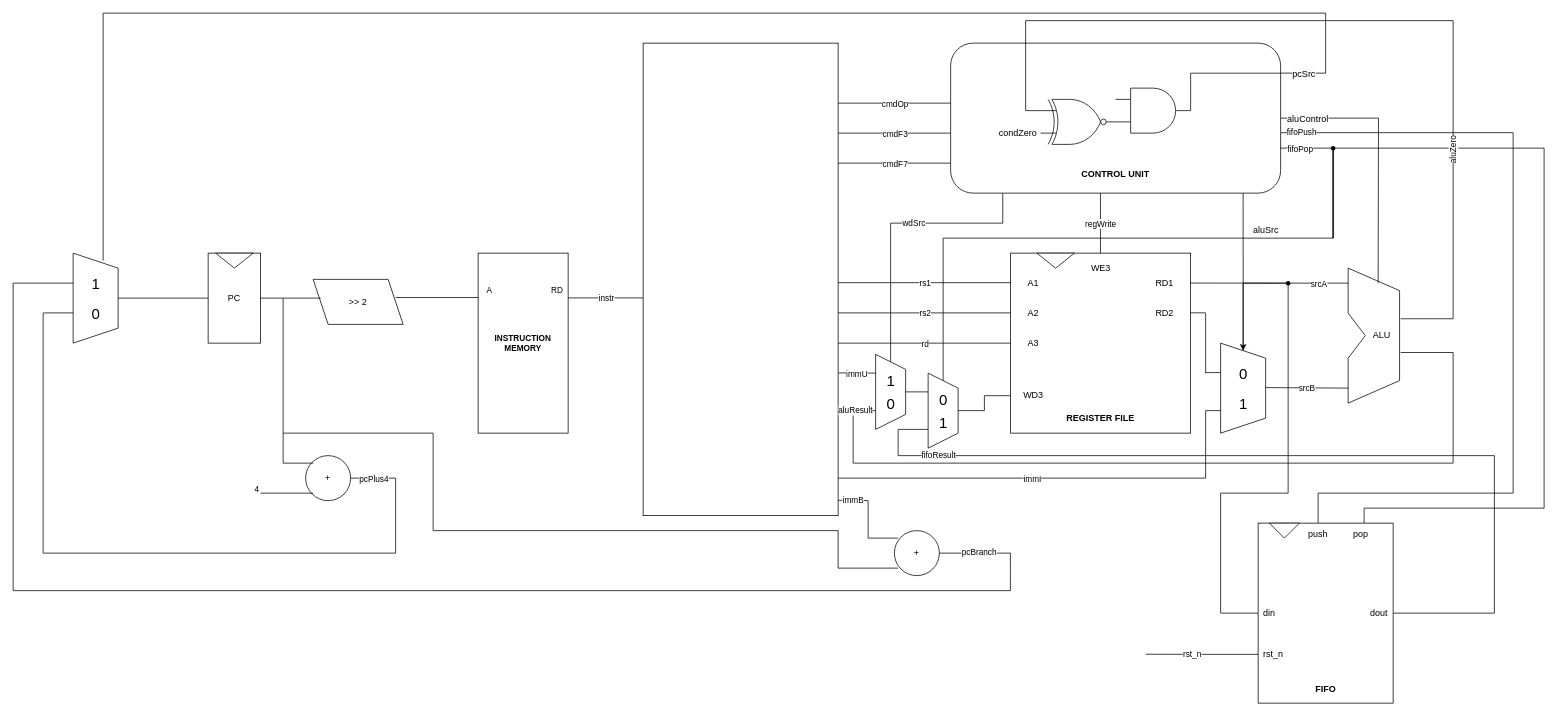
The diagram is 1559 pixels wide and 716 high, and some of its shapes have lost their labels. The centre of each missing label's shape, as x and y in pixels:
branch: (x=1078, y=121)
INSTRUCTION DECODE: (x=740, y=279)
